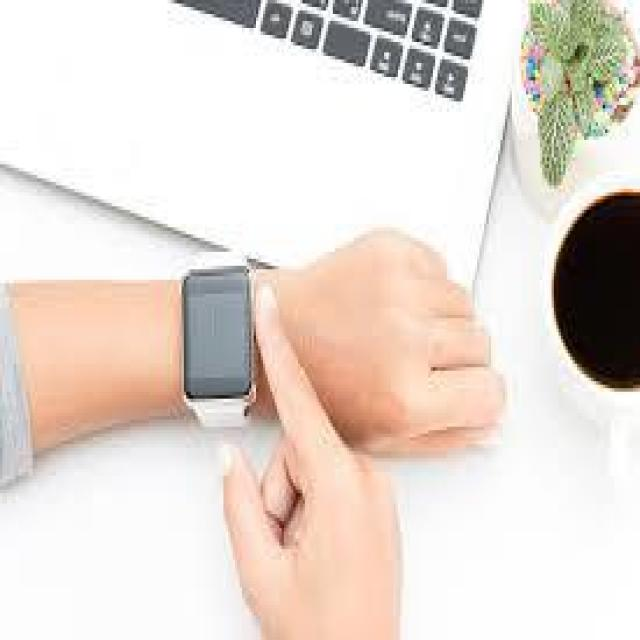laptop_computer: (0, 0, 509, 298)
watch: (172, 258, 262, 456)
